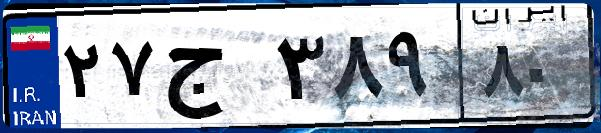0: (525, 38, 570, 115)
2: (57, 26, 110, 100)
3: (270, 28, 330, 110)
7: (110, 28, 158, 98)
8: (330, 28, 385, 110), (475, 38, 525, 113)
9: (385, 28, 445, 110)
ج: (158, 20, 270, 120)
